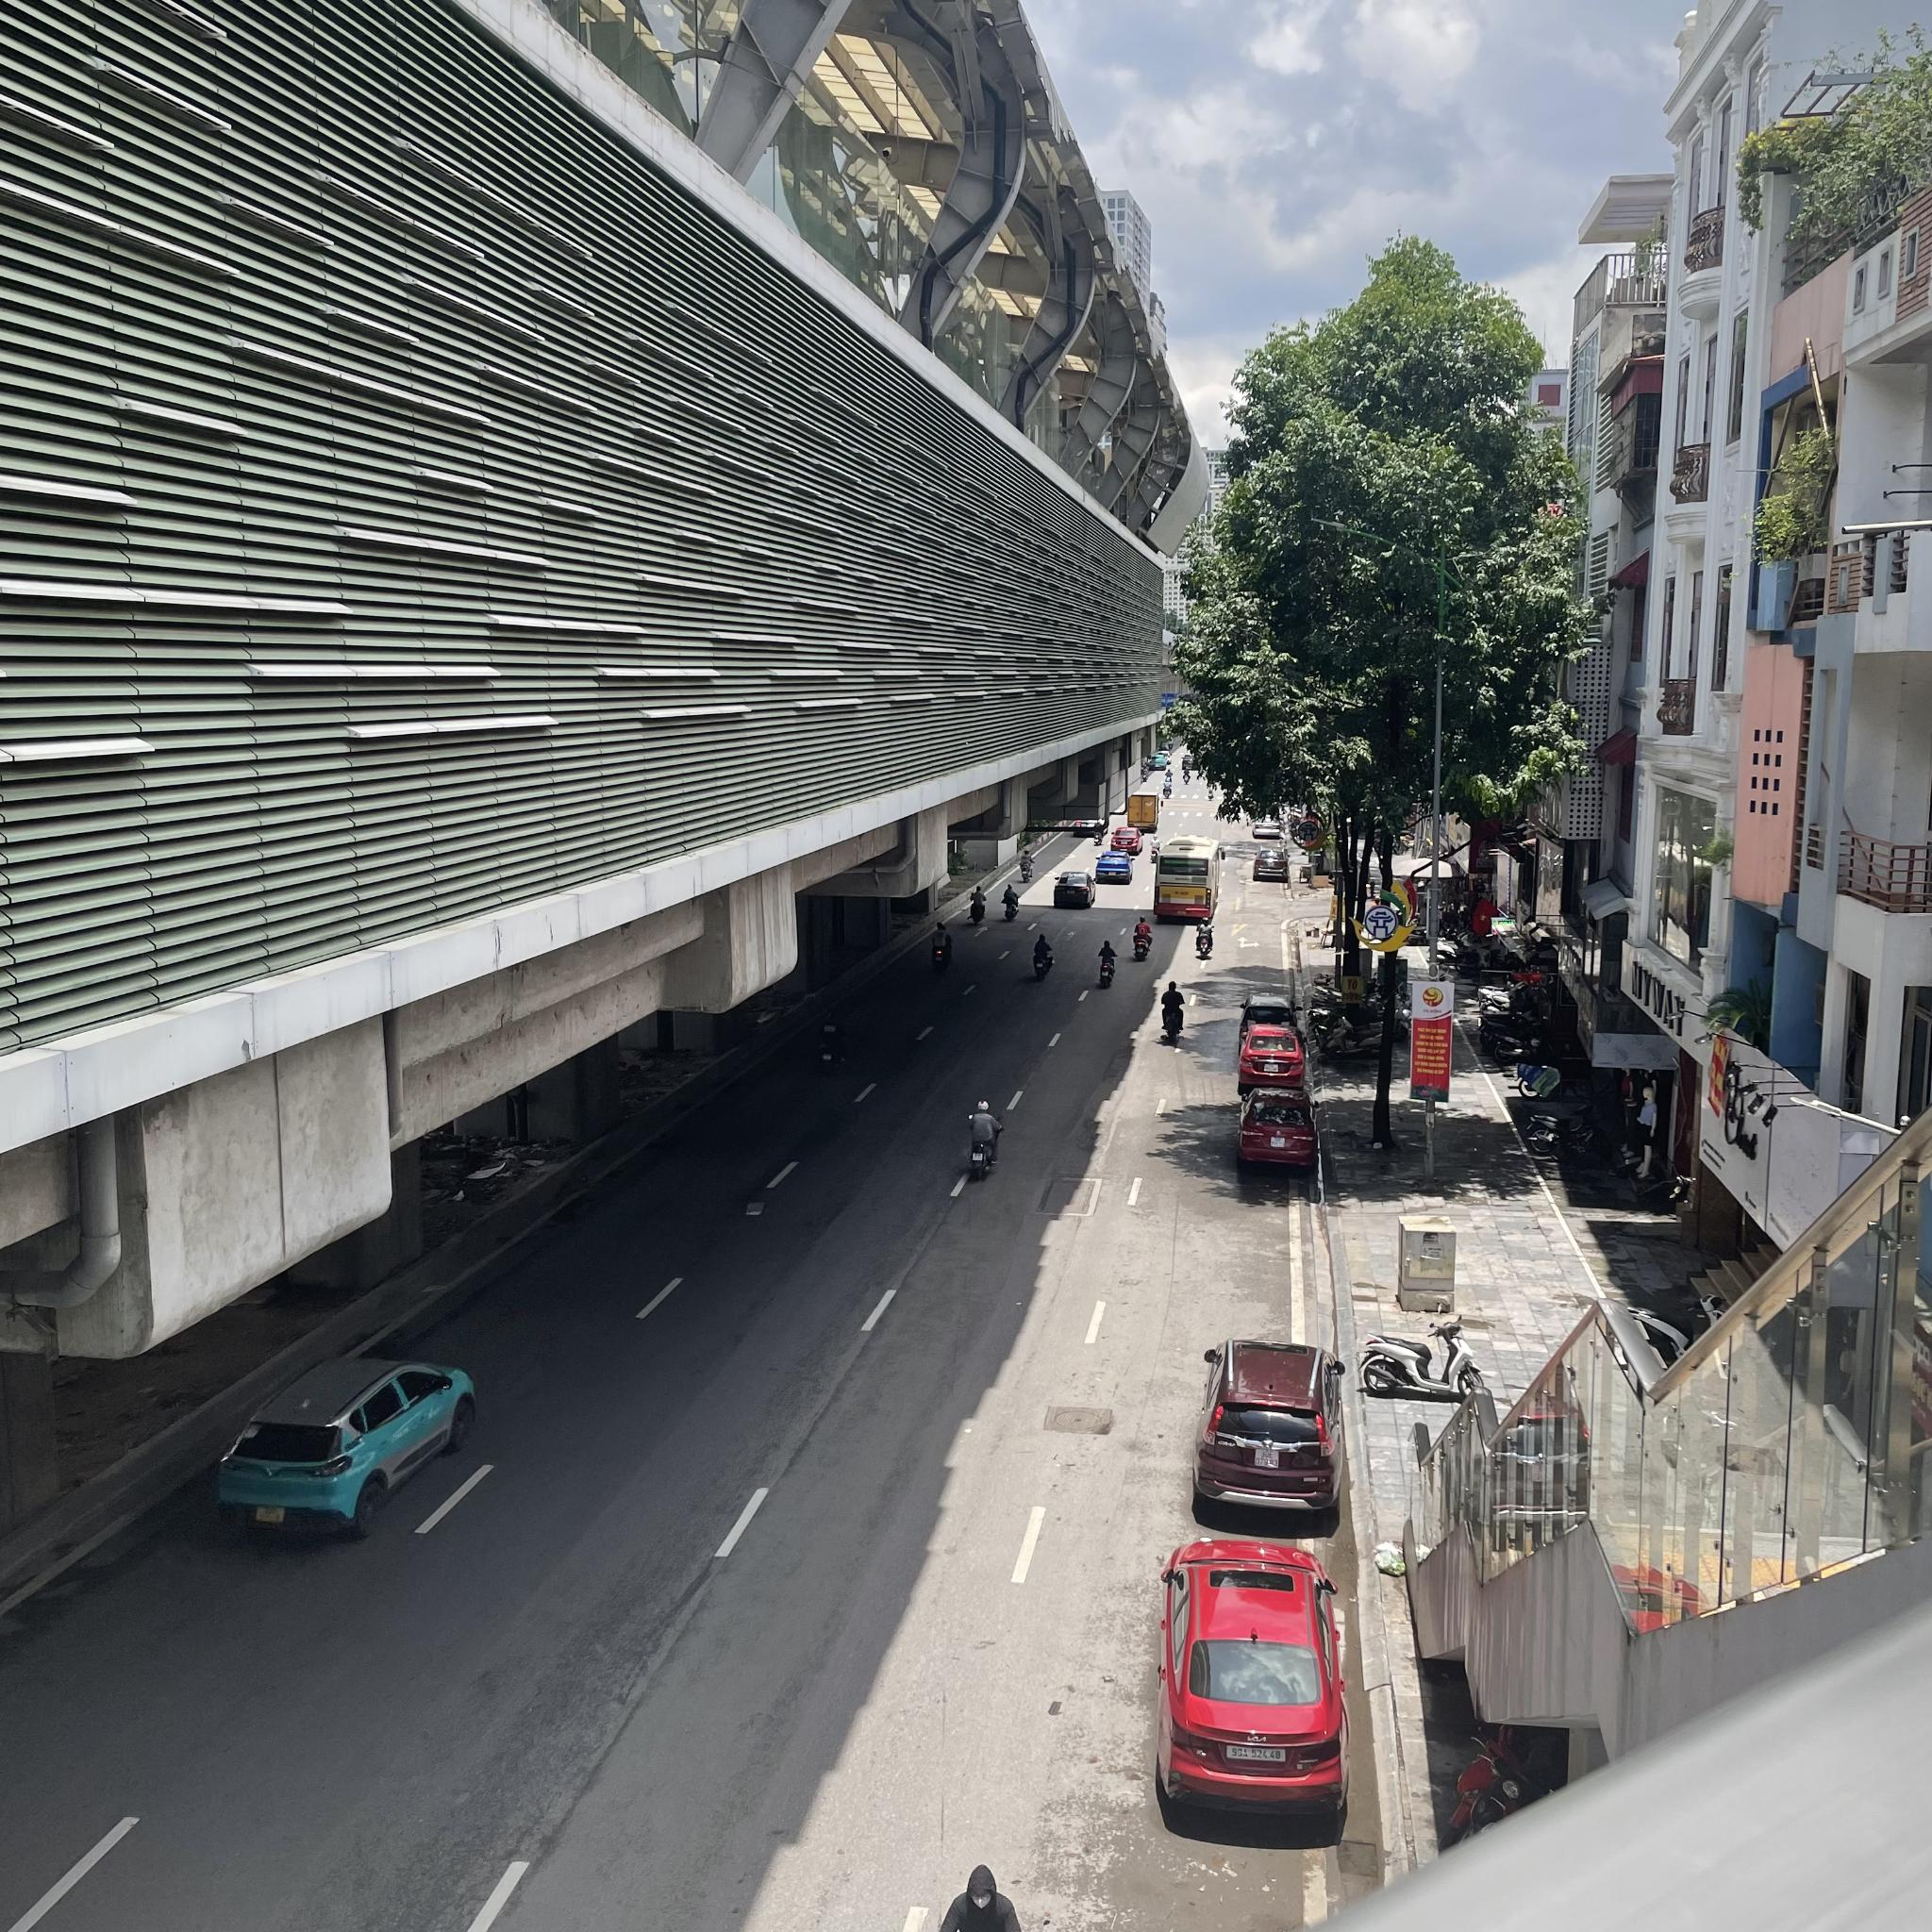car: (1162, 1543, 1341, 1844), (202, 1361, 474, 1534), (1201, 1338, 1341, 1511), (1237, 1086, 1318, 1177), (1154, 837, 1221, 922), (1053, 869, 1099, 909)
motobike: (1359, 1318, 1488, 1399), (961, 1100, 1008, 1180), (1159, 980, 1187, 1040), (823, 1010, 847, 1070), (1132, 913, 1154, 962), (1031, 936, 1054, 980), (1097, 936, 1115, 989), (934, 931, 955, 968), (1001, 885, 1019, 929), (1016, 846, 1035, 883), (970, 886, 987, 927), (1200, 920, 1212, 959)
